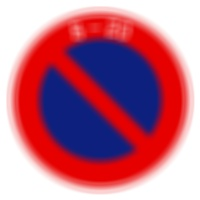Prohibition_sign: (8, 2, 197, 194)
